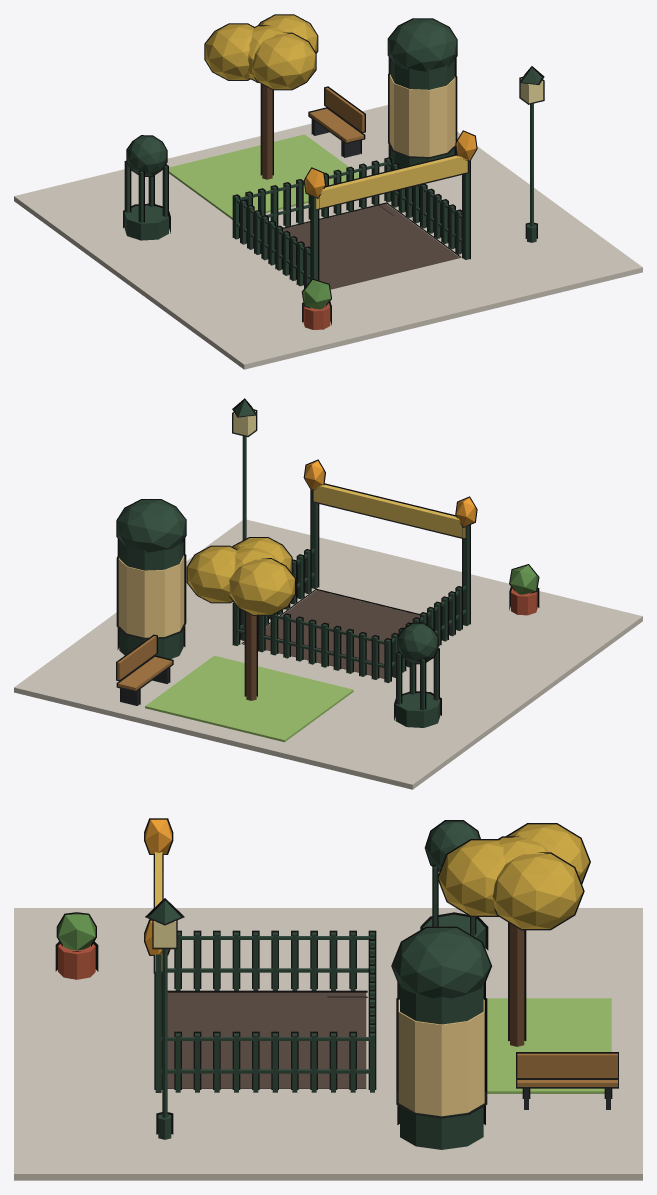
The model's file is Park_cim_metro.fbx.
3 views of the same model, one above another, from view 1: azimuth 30°, elevation 25°; view 2: azimuth 150°, elevation 25°; view 3: azimuth 270°, elevation 25° (orthographic). The views are drawn at different scales.
Visible parts, largest first — view 1: Park_cim_metro; view 2: Park_cim_metro; view 3: Park_cim_metro.
Part boxes in pixels (x1,y1,x2,y2): Park_cim_metro: [14, 14, 642, 369]; Park_cim_metro: [14, 398, 642, 789]; Park_cim_metro: [14, 818, 642, 1180].
Size of the model in its own units: 10 by 4.81 by 10.
